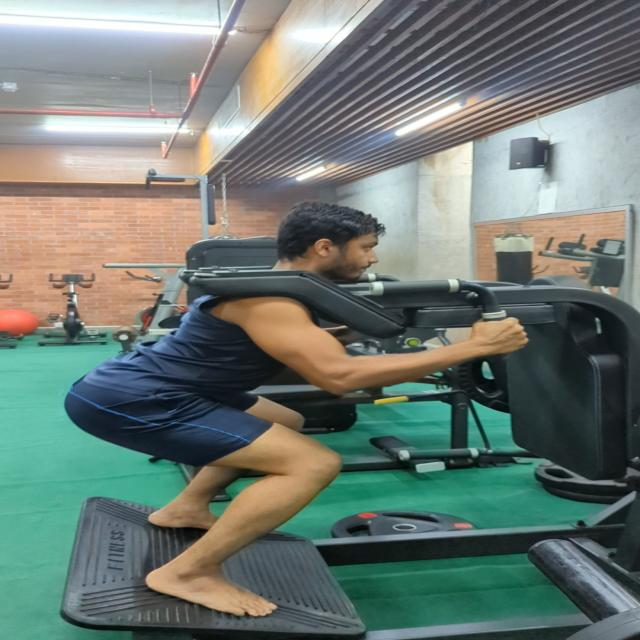Normal_SquatsWithBarbell: (55, 203, 640, 640)
